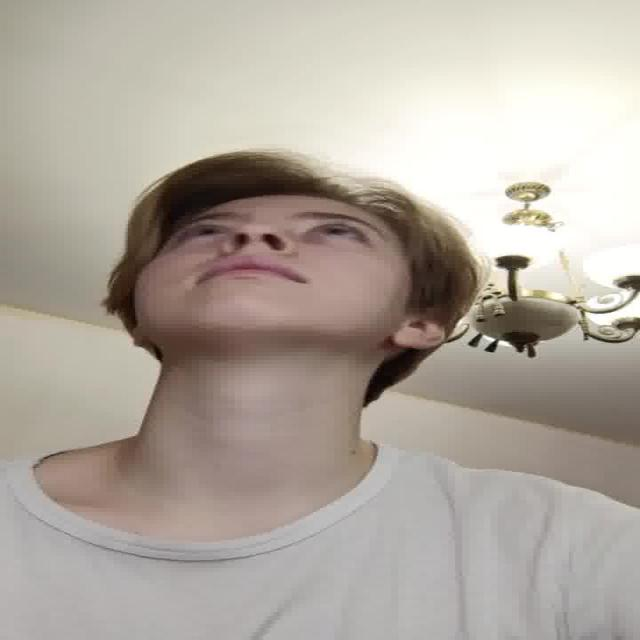earlobe: (393, 329, 427, 349)
eye: (306, 226, 371, 240), (178, 226, 229, 239)
nose: (222, 244, 294, 265)
wholeear: (392, 308, 452, 349)
